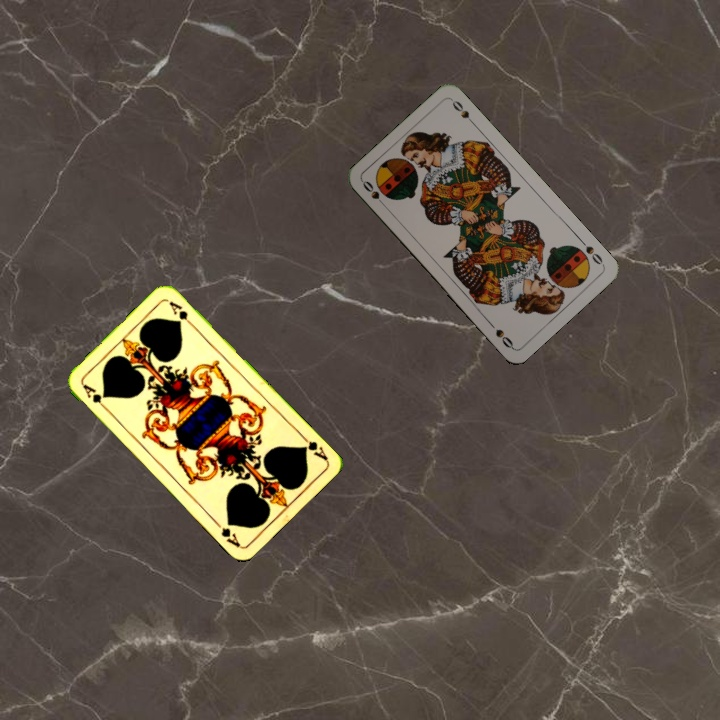GA: (297, 430, 330, 463), (78, 380, 110, 413)
SO: (358, 176, 390, 210), (575, 235, 606, 268)
